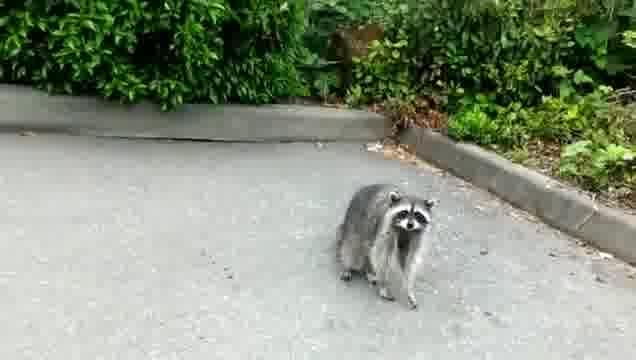raccoon: (336, 184, 439, 313)
